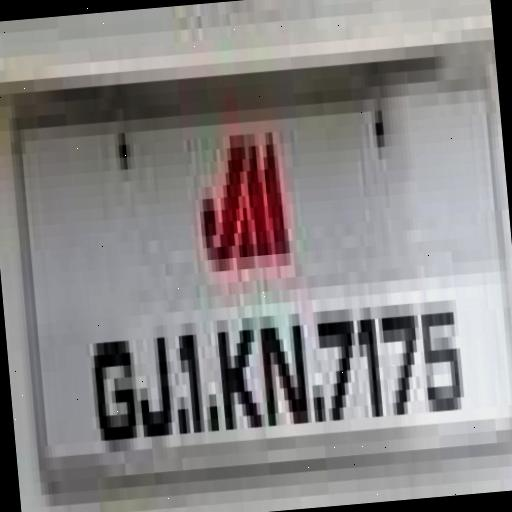number plate: (3, 100, 512, 507)
